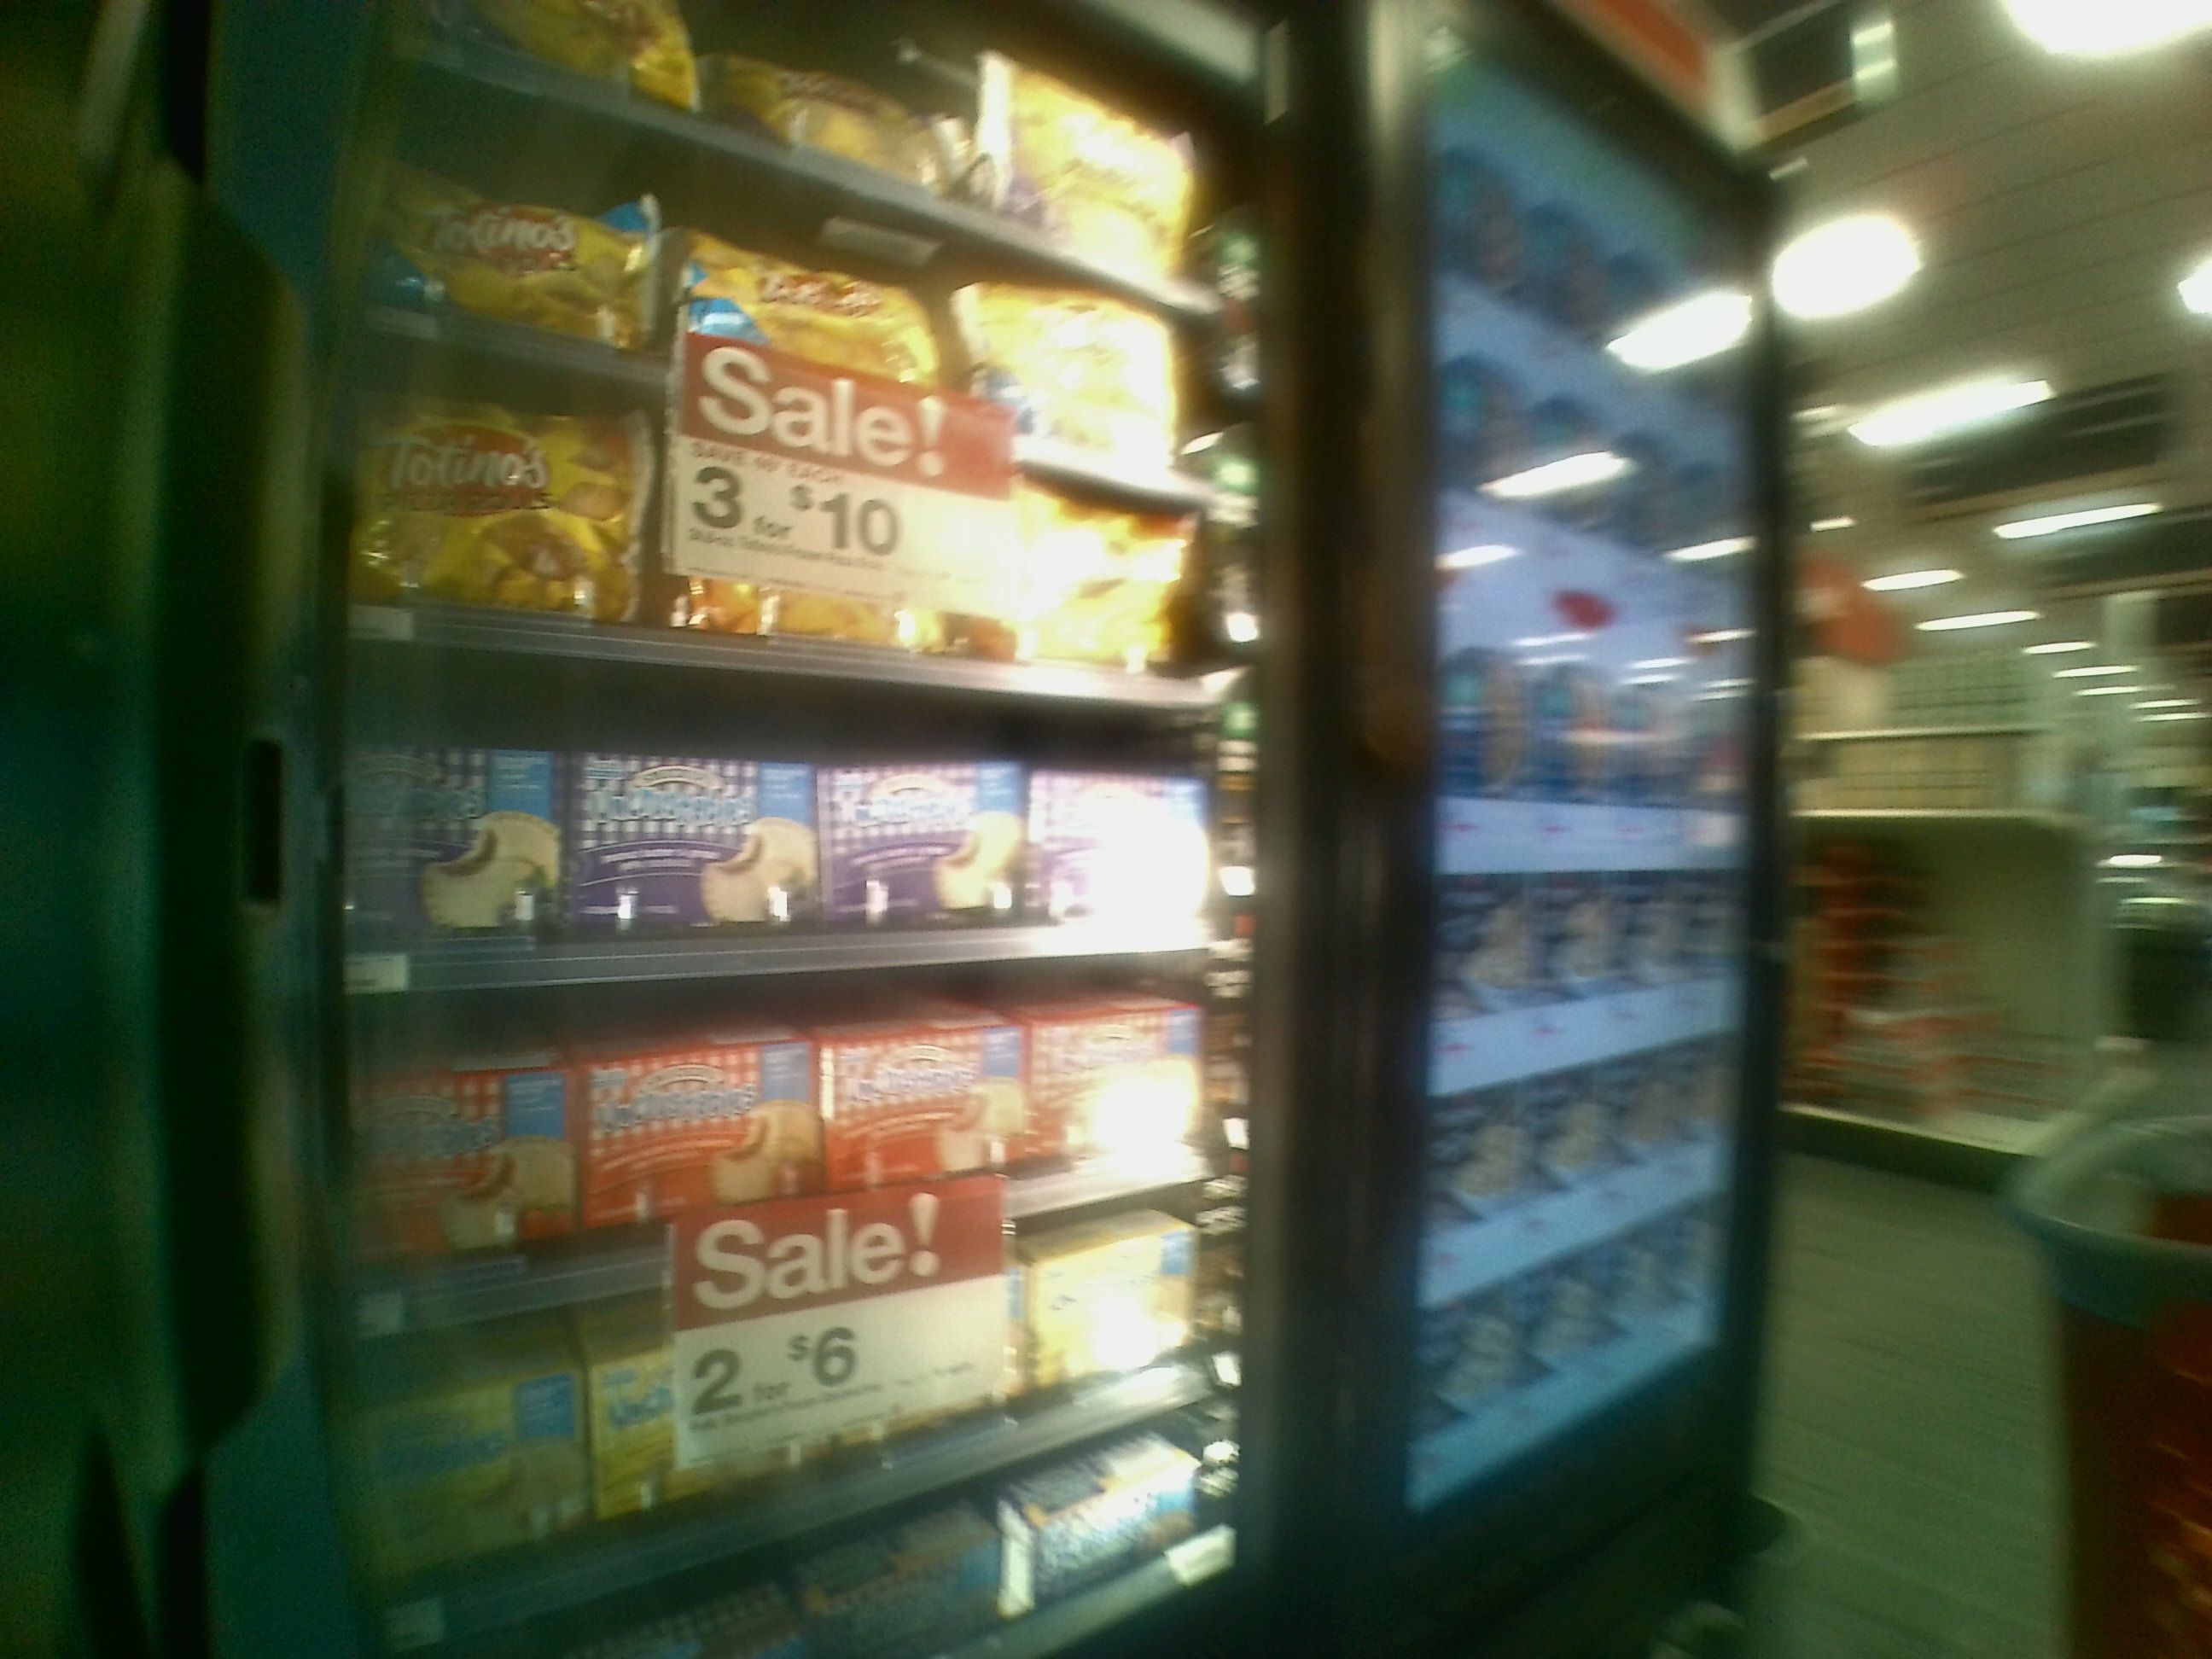shelf: (298, 594, 1285, 986), (286, 978, 1268, 1272), (319, 1267, 1263, 1518)
